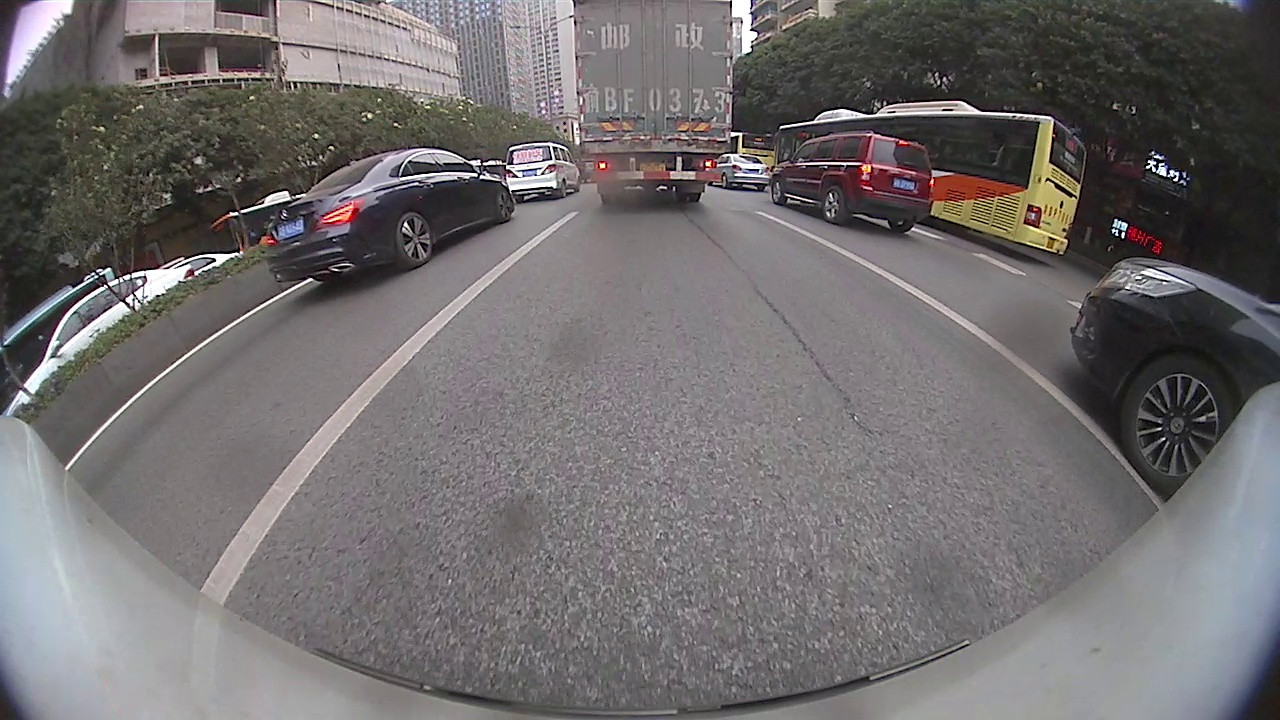bus: (776, 101, 1087, 256)
car: (1068, 254, 1277, 494), (266, 145, 514, 283), (776, 129, 936, 234), (504, 142, 580, 205)
front: (1118, 350, 1241, 500), (494, 192, 513, 224), (770, 179, 788, 207)
rear: (394, 211, 434, 270), (820, 185, 849, 225)
truck: (572, 0, 739, 205)
